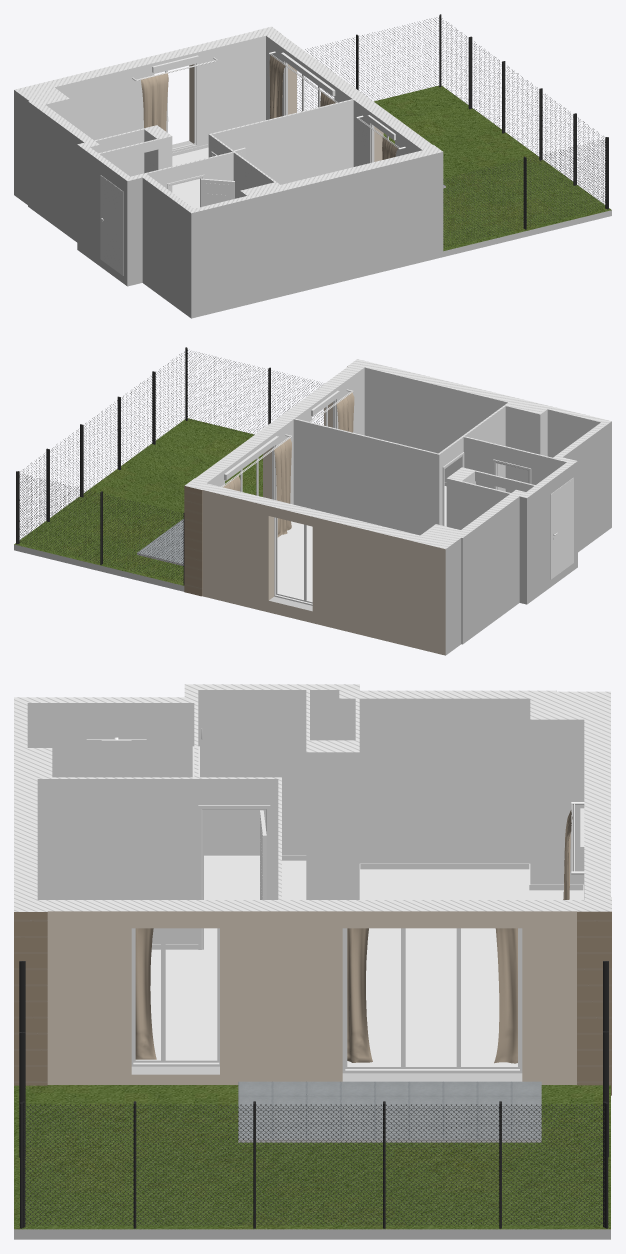
File: t2_a001_04.6_furniture_Test_baseboards.gltf
3 renders of one model, top to bottom at view 1: azimuth 30°, elevation 25°; view 2: azimuth 150°, elevation 25°; view 3: azimuth 270°, elevation 25°, orthographic. The views are drawn at different scales.
Visible parts, largest first — view 1: masonry_01, ground_garden_01, exc_fence_01, section_face_01, windows_01, door_01, curtain_03, ground_living_01, curtain_01, interior_door_panel_02, curtain_bar_01; view 2: masonry_01, ground_garden_01, exc_fence_01, section_face_01, ground_living_01, door_01, windows_01, curtain_01, ground_terrace_01, interior_door_frame_01, curtain_02; view 3: masonry_01, ground_garden_01, exc_fence_01, section_face_01, ground_terrace_01, ground_living_01, door_01, windows_01, ground_bed_01, ground_kitchen_01, curtain_01, ground_hall_01 (+4 smaller).
Part boxes in pixels (left/top/right/bottom): masonry_01: left=14, top=36, right=611, bottom=318; ground_garden_01: left=374, top=85, right=611, bottom=251; exc_fence_01: left=297, top=14, right=608, bottom=246; section_face_01: left=14, top=26, right=442, bottom=213; windows_01: left=152, top=52, right=395, bottom=162; door_01: left=100, top=175, right=123, bottom=275; curtain_03: left=141, top=72, right=168, bottom=131; ground_living_01: left=172, top=147, right=208, bottom=208; curtain_01: left=269, top=54, right=335, bottom=118; interior_door_panel_02: left=200, top=178, right=234, bottom=206; curtain_bar_01: left=132, top=51, right=405, bottom=149; masonry_01: left=14, top=366, right=611, bottom=655; ground_garden_01: left=14, top=418, right=262, bottom=585; exc_fence_01: left=16, top=347, right=323, bottom=584; section_face_01: left=185, top=359, right=611, bottom=549; ground_living_01: left=277, top=521, right=312, bottom=601; door_01: left=550, top=477, right=573, bottom=579; windows_01: left=224, top=390, right=339, bottom=605; curtain_01: left=223, top=438, right=291, bottom=537; ground_terrace_01: left=137, top=519, right=183, bottom=564; interior_door_frame_01: left=442, top=452, right=531, bottom=525; curtain_02: left=336, top=392, right=354, bottom=432; masonry_01: left=14, top=690, right=611, bottom=1239; ground_garden_01: left=14, top=1085, right=610, bottom=1229; exc_fence_01: left=19, top=961, right=608, bottom=1228; section_face_01: left=14, top=684, right=611, bottom=911; ground_terrace_01: left=238, top=1081, right=541, bottom=1139; ground_living_01: left=347, top=928, right=517, bottom=1065; door_01: left=199, top=714, right=277, bottom=856; windows_01: left=131, top=808, right=584, bottom=1073; ground_bed_01: left=150, top=949, right=217, bottom=1059; ground_kitchen_01: left=360, top=869, right=583, bottom=899; curtain_01: left=347, top=928, right=517, bottom=1063; ground_hall_01: left=204, top=856, right=306, bottom=949.
Size of the model in its own units: 11.75 by 2.7 by 7.96.
44 materials, 40 textured.
